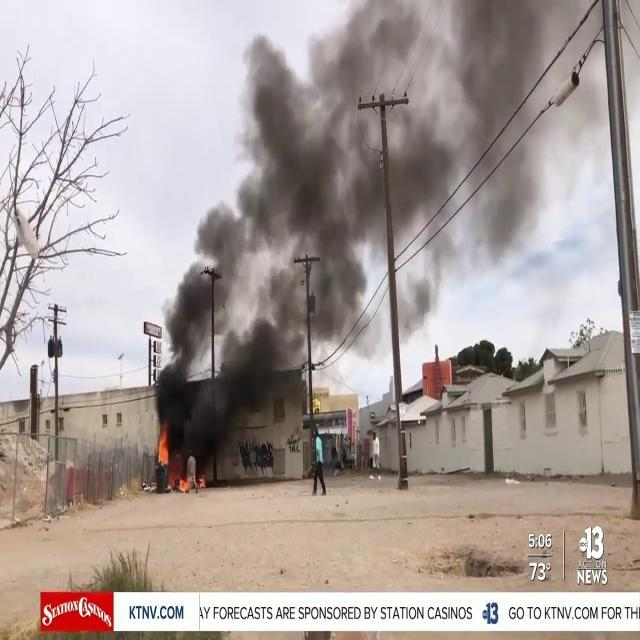Fire: (154, 428, 171, 472), (174, 471, 192, 493)
Smoke: (150, 0, 606, 425)
